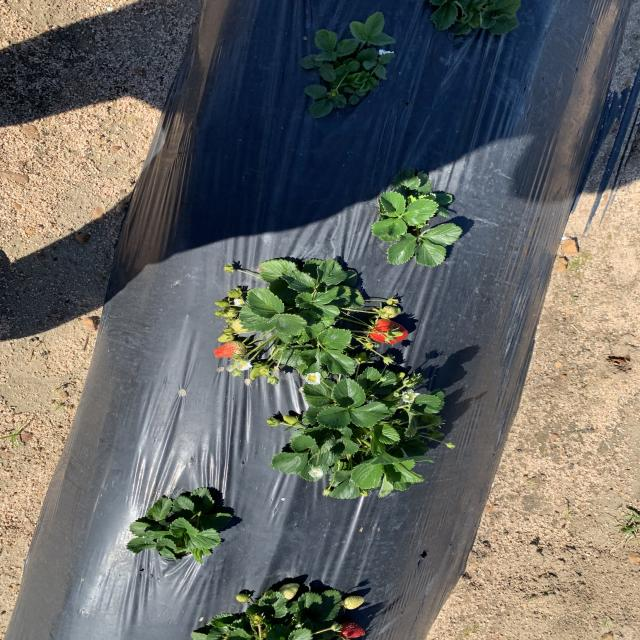unripe: (370, 320, 408, 344), (215, 341, 247, 359), (339, 621, 367, 640)
